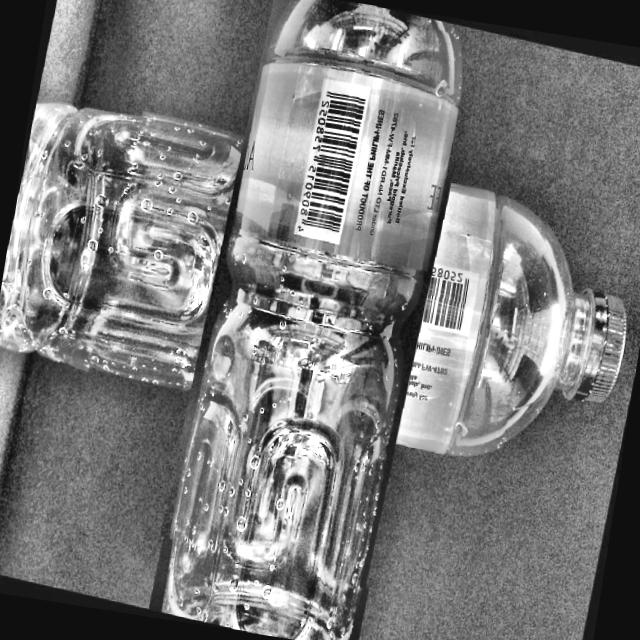Plastic-Bottle: (54, 0, 586, 617)
